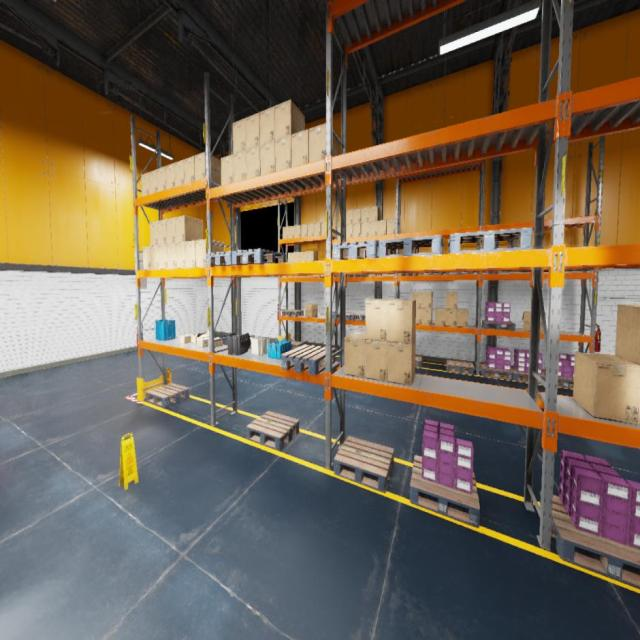box: (572, 351, 640, 424), (615, 304, 640, 365), (309, 122, 338, 173), (388, 337, 416, 385), (388, 299, 416, 343), (275, 100, 304, 140), (366, 299, 392, 341), (344, 332, 365, 378), (365, 340, 387, 381), (195, 152, 221, 184), (196, 239, 223, 267), (175, 215, 203, 242), (292, 128, 308, 166), (260, 106, 275, 144), (276, 136, 291, 172), (246, 112, 260, 150), (260, 140, 275, 175), (522, 311, 546, 332), (233, 118, 246, 154), (246, 145, 260, 178), (220, 154, 233, 185), (234, 150, 246, 182), (184, 156, 195, 183), (186, 240, 196, 268), (174, 159, 184, 186), (176, 242, 186, 268), (158, 244, 168, 269), (167, 217, 176, 244), (615, 355, 639, 365), (158, 219, 167, 245), (157, 166, 166, 191), (457, 309, 468, 328), (445, 308, 456, 327), (166, 163, 174, 189), (168, 243, 176, 268), (150, 221, 158, 246), (149, 170, 157, 194), (141, 172, 149, 196), (150, 245, 158, 269), (143, 246, 151, 270), (446, 292, 457, 309), (304, 304, 318, 317), (435, 308, 445, 325), (422, 292, 432, 309), (422, 308, 432, 325), (412, 291, 422, 308), (197, 330, 208, 345), (369, 206, 380, 221), (378, 219, 387, 236), (208, 337, 223, 347), (386, 219, 396, 234), (353, 208, 361, 224), (353, 222, 361, 238), (198, 337, 209, 348), (361, 222, 369, 237), (361, 207, 369, 222), (180, 334, 193, 343), (369, 222, 377, 236), (307, 250, 318, 260), (346, 209, 353, 224), (307, 223, 314, 237), (346, 224, 353, 238), (314, 223, 321, 236), (416, 309, 422, 324), (301, 224, 307, 237), (295, 225, 301, 238), (282, 226, 288, 239), (190, 334, 198, 343), (288, 226, 294, 238), (300, 252, 307, 262), (321, 222, 326, 235), (294, 252, 300, 261), (288, 253, 294, 262), (338, 225, 340, 239)
pallets: (540, 492, 640, 589), (410, 456, 480, 528), (334, 436, 394, 493), (448, 227, 532, 254), (246, 412, 299, 452), (280, 345, 336, 375), (378, 235, 444, 257), (146, 382, 189, 408), (231, 249, 286, 265), (333, 240, 378, 259), (511, 367, 546, 384), (479, 363, 513, 380), (543, 370, 573, 389), (205, 251, 242, 266), (446, 360, 474, 374), (482, 320, 516, 330), (332, 313, 356, 320), (282, 310, 304, 316), (291, 340, 304, 350), (352, 312, 366, 320), (415, 355, 422, 368), (418, 272, 443, 275), (445, 272, 473, 274)
